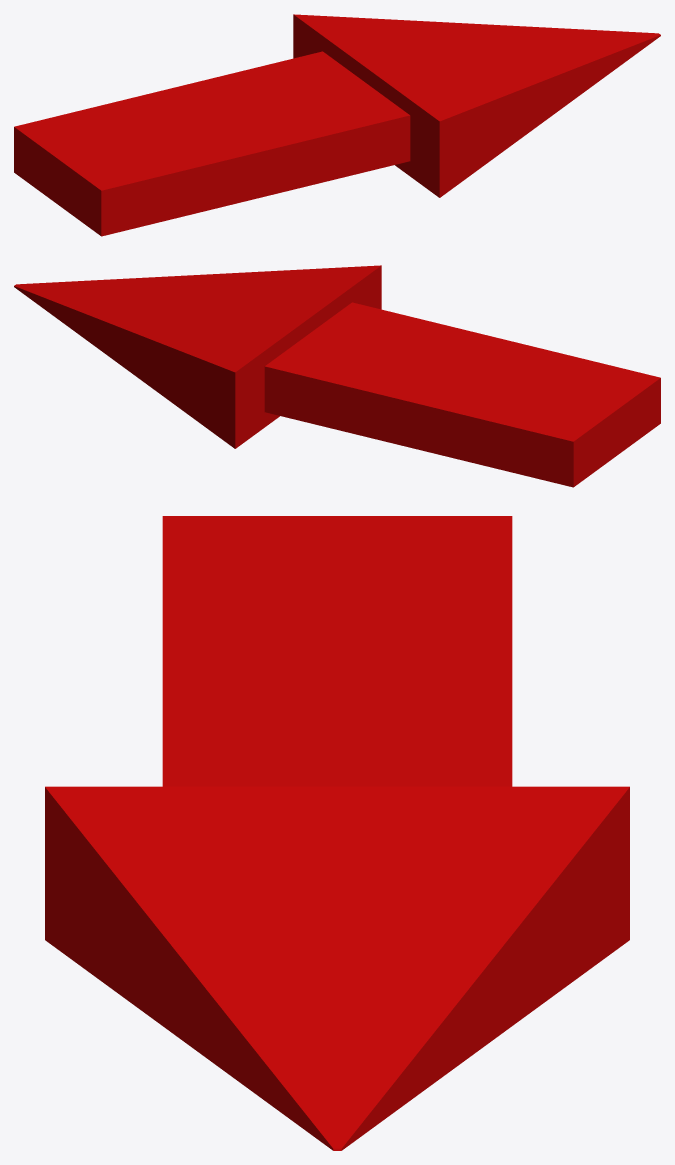
The model's file is Arrow.fbx.
The picture shows the model from 3 angles, top to bottom: view 1: azimuth 30°, elevation 25°; view 2: azimuth 150°, elevation 25°; view 3: azimuth 270°, elevation 25°; orthographic projection. The views are drawn at different scales.
Parts seen in each view (by area): view 1: Cube; view 2: Cube; view 3: Cube.
Part boxes in pixels (x1,y1,x2,y2): Cube: (14, 14, 660, 236); Cube: (14, 265, 660, 487); Cube: (45, 516, 629, 1150).
Bounding box in the file's own units: 795 × 96.67 × 335.
